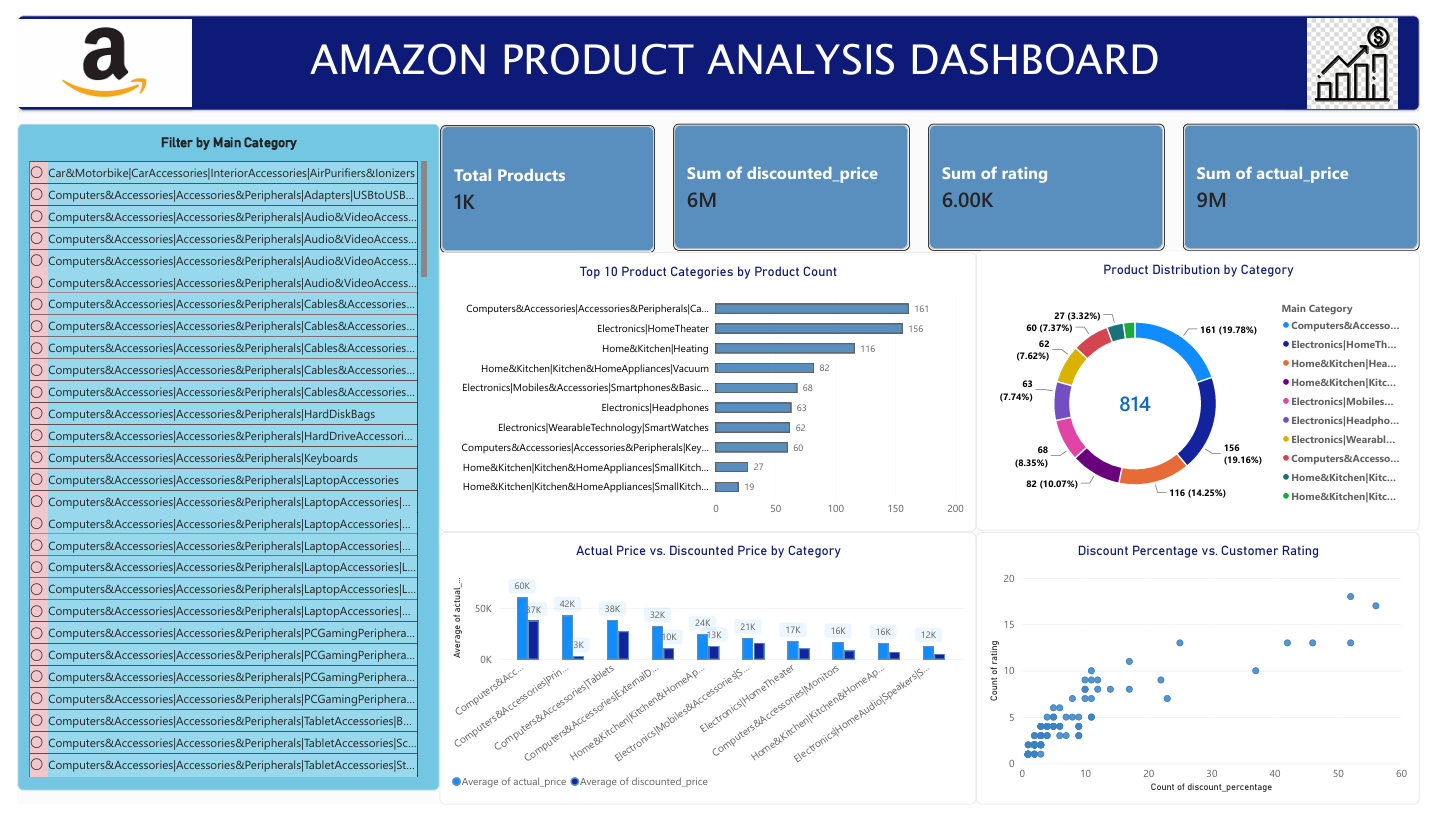

The dashboard page shown, as its layout file describes it:
{"tool":"powerbi","page":{"name":"Page 1","canvas":[1920,1080],"ordinal":0},"visuals":[{"type":"textbox","box":[0,0,1920.4,129.7],"z":0},{"type":"image","box":[0,0,238.8,130],"z":1000},{"type":"image","box":[1736.2,4.2,183.2,123.5],"z":2000},{"type":"cardVisual","fields":{"Data":["amazon.Total Products"]},"box":[578.6,150.2,294.4,174.6],"z":3000},{"type":"cardVisual","fields":{"Data":["Sum(amazon.discounted_price)"]},"box":[897.8,148.2,324,173.6],"z":4000},{"type":"cardVisual","fields":{"Data":["Sum(amazon.actual_price)"]},"box":[1596.5,148.2,324,173.6],"z":5000},{"type":"cardVisual","fields":{"Data":["Sum(amazon.rating)"]},"box":[1247.1,148.2,324,173.6],"z":6000},{"type":"donutChart","title":"Product Distribution by Category","fields":{"Category":["amazon.Main Category"],"Y":["Count(amazon.product_id)"]},"box":[1312.8,321.8,607.7,383.2],"z":7000},{"type":"clusteredBarChart","title":"Top 10 Product Categories by Product Count","fields":{"Category":["amazon.Main Category"],"Y":["Count(amazon.product_id)"]},"box":[578,324,734.7,383.2],"z":8000},{"type":"clusteredColumnChart","title":"Actual Price vs. Discounted Price by Category","fields":{"Category":["amazon.Main Category"],"Y":["Avg(amazon.actual_price)","Avg(amazon.discounted_price)"]},"box":[578,707.2,734.7,372.7],"z":9000},{"type":"listSlicer","title":"Filter by Main Category","fields":{"Values":["amazon.Main Category"]},"box":[0,148.2,578,912.6],"z":10000},{"type":"scatterChart","title":"Discount Percentage vs. Customer Rating","fields":{"Y":["Count(amazon.rating)"],"Category":["amazon.Main Category"],"X":["Count(amazon.discount_percentage)"]},"box":[1313,707,607,373],"z":11000}]}

Visuals, with their boxes in screenshot pixels (x1, y1, x2, y2), scaled from the page's 1920x1080 canvas onto the 1437x822 screenshot:
textbox: crop(0, 0, 1436, 99)
image: crop(0, 0, 179, 99)
image: crop(1299, 3, 1436, 97)
cardVisual - amazon.Total Products: crop(433, 114, 653, 247)
cardVisual - Sum(amazon.discounted_price): crop(672, 113, 914, 245)
cardVisual - Sum(amazon.actual_price): crop(1195, 113, 1436, 245)
cardVisual - Sum(amazon.rating): crop(933, 113, 1176, 245)
"Product Distribution by Category" donutChart: crop(983, 245, 1436, 537)
"Top 10 Product Categories by Product Count" clusteredBarChart: crop(433, 247, 982, 538)
"Actual Price vs. Discounted Price by Category" clusteredColumnChart: crop(433, 538, 982, 821)
"Filter by Main Category" listSlicer: crop(0, 113, 433, 807)
"Discount Percentage vs. Customer Rating" scatterChart: crop(983, 538, 1436, 821)
